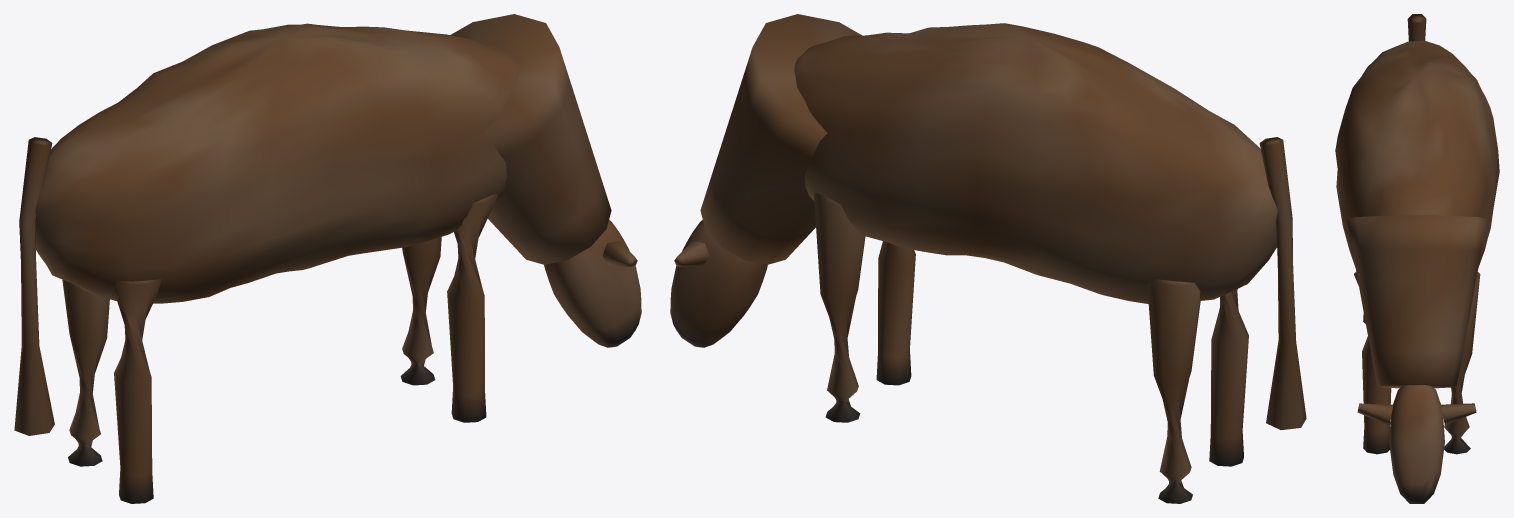
Rendered from SM_Animal_cow_graze_1.glb.
The picture shows the model from 3 angles, left to right: view 1: azimuth 30°, elevation 25°; view 2: azimuth 150°, elevation 25°; view 3: azimuth 270°, elevation 25°; orthographic projection. The views are drawn at different scales.
Parts seen in each view (by area): view 1: SM_Animal_cow_graze_1; view 2: SM_Animal_cow_graze_1; view 3: SM_Animal_cow_graze_1.
Part boxes in pixels (bbox=[...]): SM_Animal_cow_graze_1: bbox=[14, 14, 641, 503]; SM_Animal_cow_graze_1: bbox=[670, 14, 1306, 503]; SM_Animal_cow_graze_1: bbox=[1335, 14, 1499, 503].
Bounding box in the file's own units: 2.4 × 1.47 × 0.7012.
